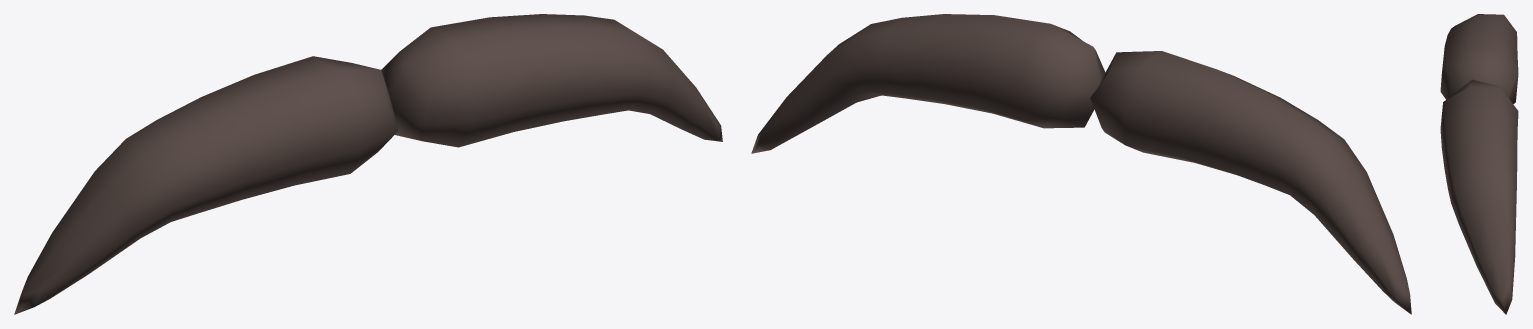
Rendered from Mustache_06.glb.
3 renders of one model, left to right at view 1: azimuth 30°, elevation 25°; view 2: azimuth 150°, elevation 25°; view 3: azimuth 270°, elevation 25°, orthographic. The views are drawn at different scales.
Visible parts, largest first — view 1: Mustache_06; view 2: Mustache_06; view 3: Mustache_06.
Boxes of the visible parts, box(x1,y1,x2,y2) form: Mustache_06: box(14, 14, 722, 314); Mustache_06: box(751, 14, 1411, 314); Mustache_06: box(1440, 14, 1518, 314).
Size of the model in its own units: 0.2105 by 0.0545 by 0.0296.
1 material, 1 textured.
